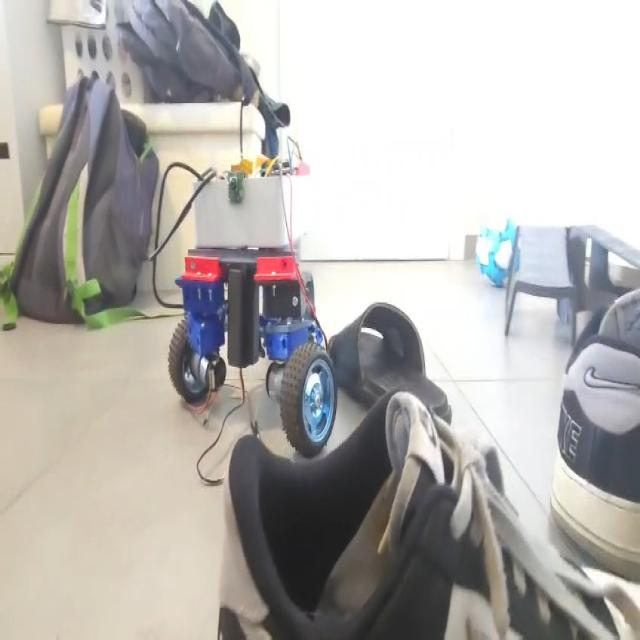Robot: (168, 127, 342, 460)
